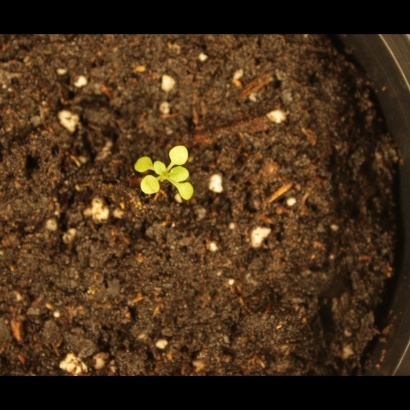leaf: (133, 151, 156, 181), (171, 181, 199, 204), (166, 145, 190, 168), (140, 176, 163, 199), (169, 164, 192, 187), (151, 156, 174, 179)
